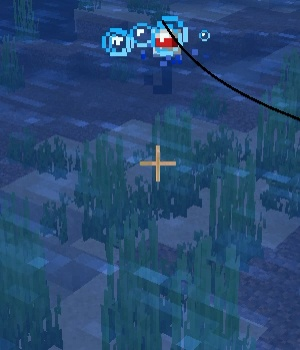up: (142, 28, 182, 96)
